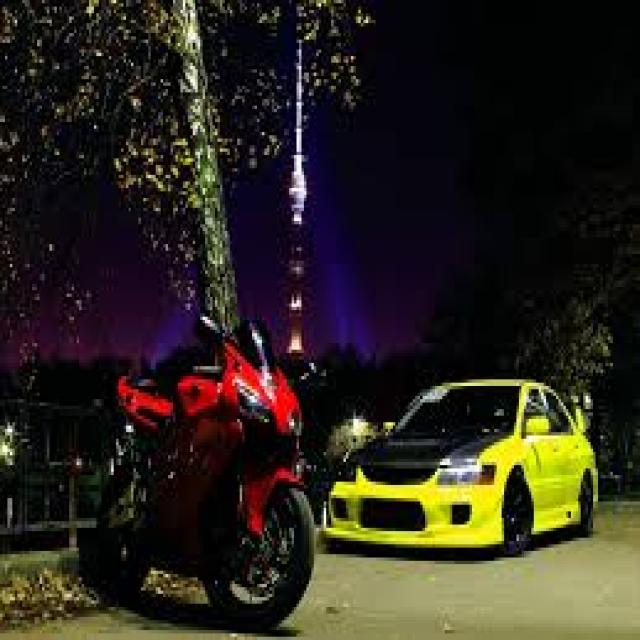bike: (51, 305, 339, 604)
car: (335, 335, 625, 561)
